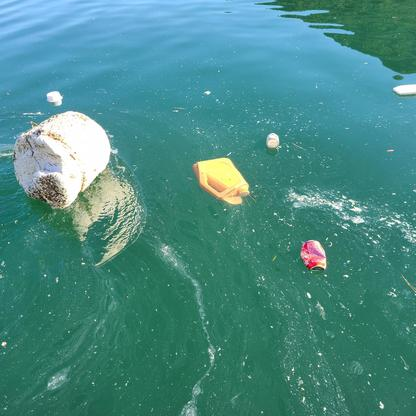can: (301, 239, 328, 273)
foam: (391, 83, 416, 96)
